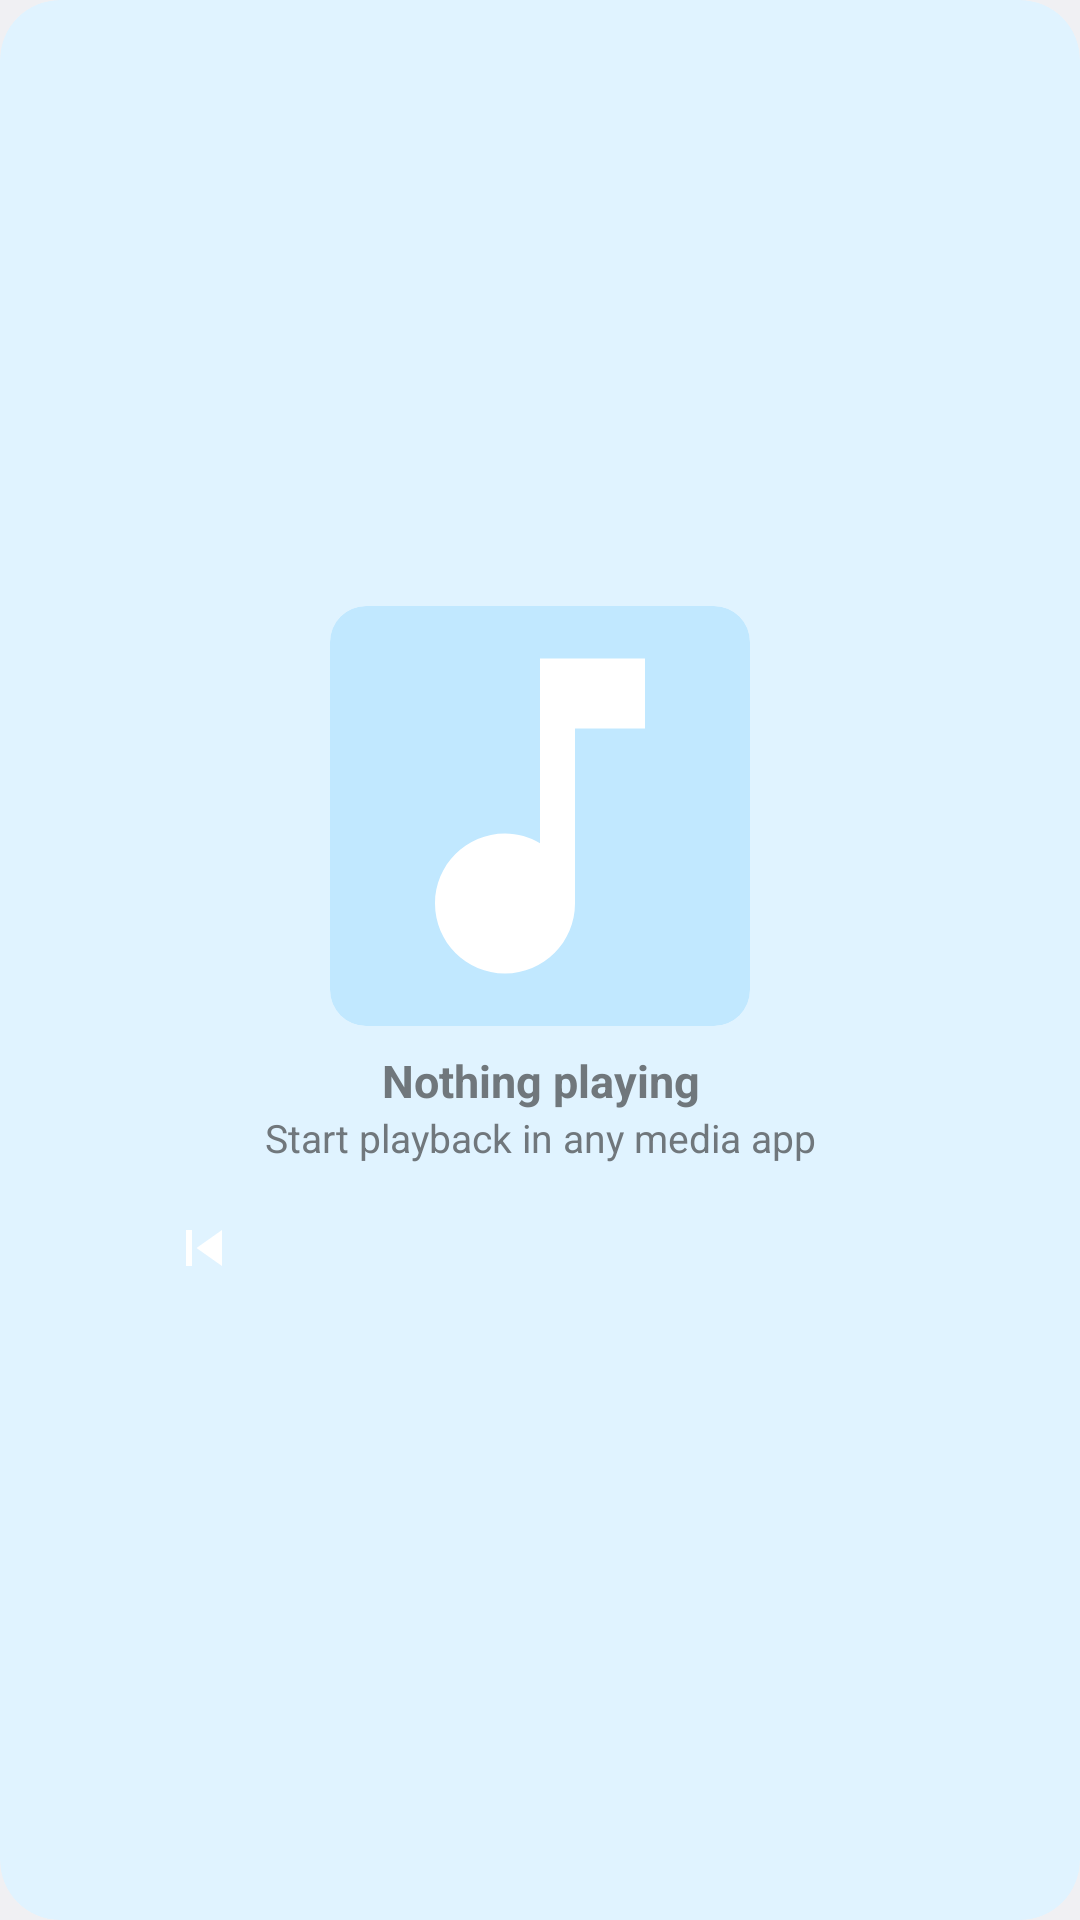

Named icons in this screenshot (1080w x 1920h) and their bounding boxes, {"x1": x1, "y1": y1, "x2": x2, "y2": y2}:
Previous track: {"x1": 186, "y1": 1230, "x2": 222, "y2": 1266}
